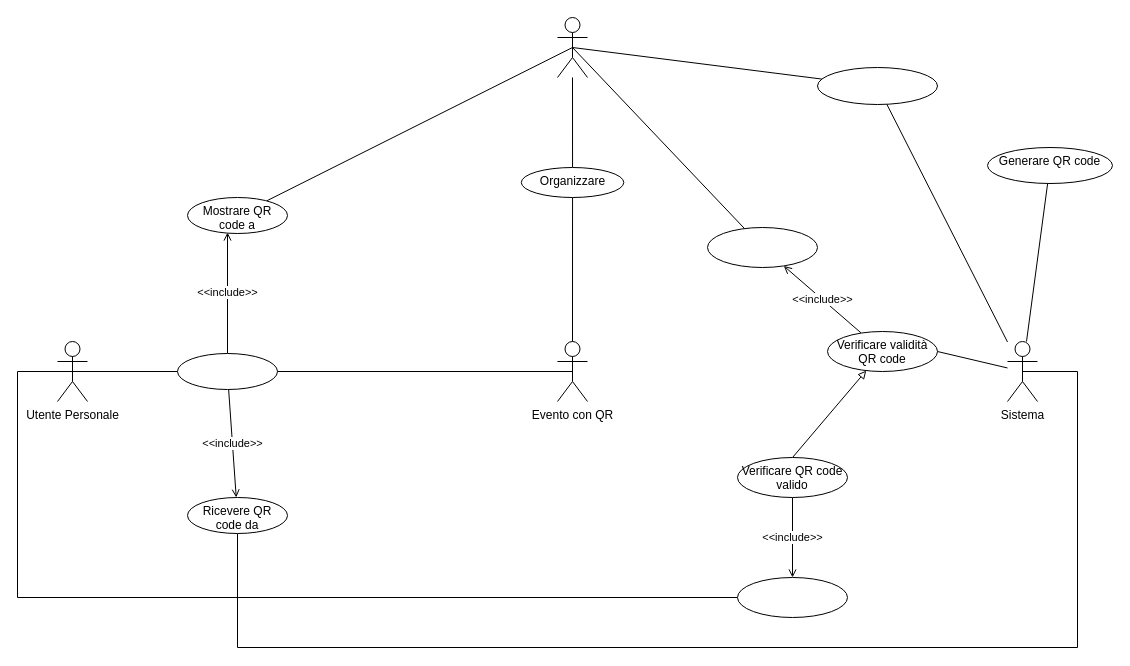
This 1130x666 diagram has some shape labels left out. Each missing label, with the centre of its shape:
Associare verifica per commenti di: pixel 792 597
Inviare risultato verifica a: pixel 762 247
Organizzatore: pixel 572 47
Partecipare: pixel 227 371
Scannerizzare QR code: pixel 877 85
